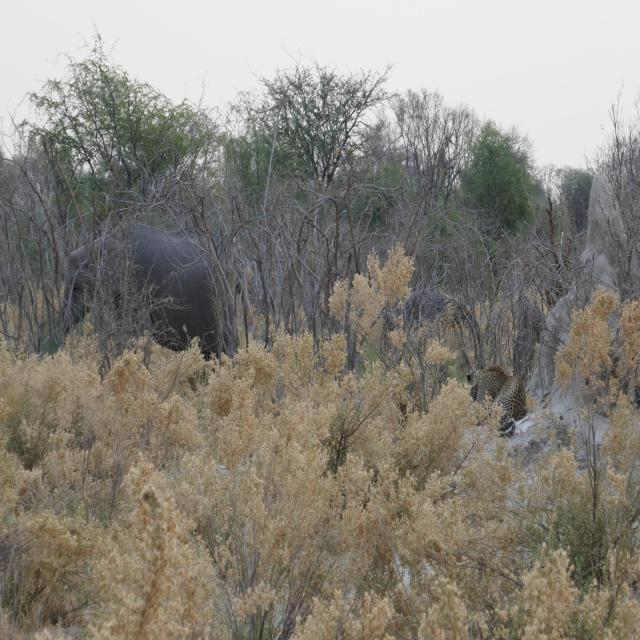Leopard: (467, 355, 529, 441)
